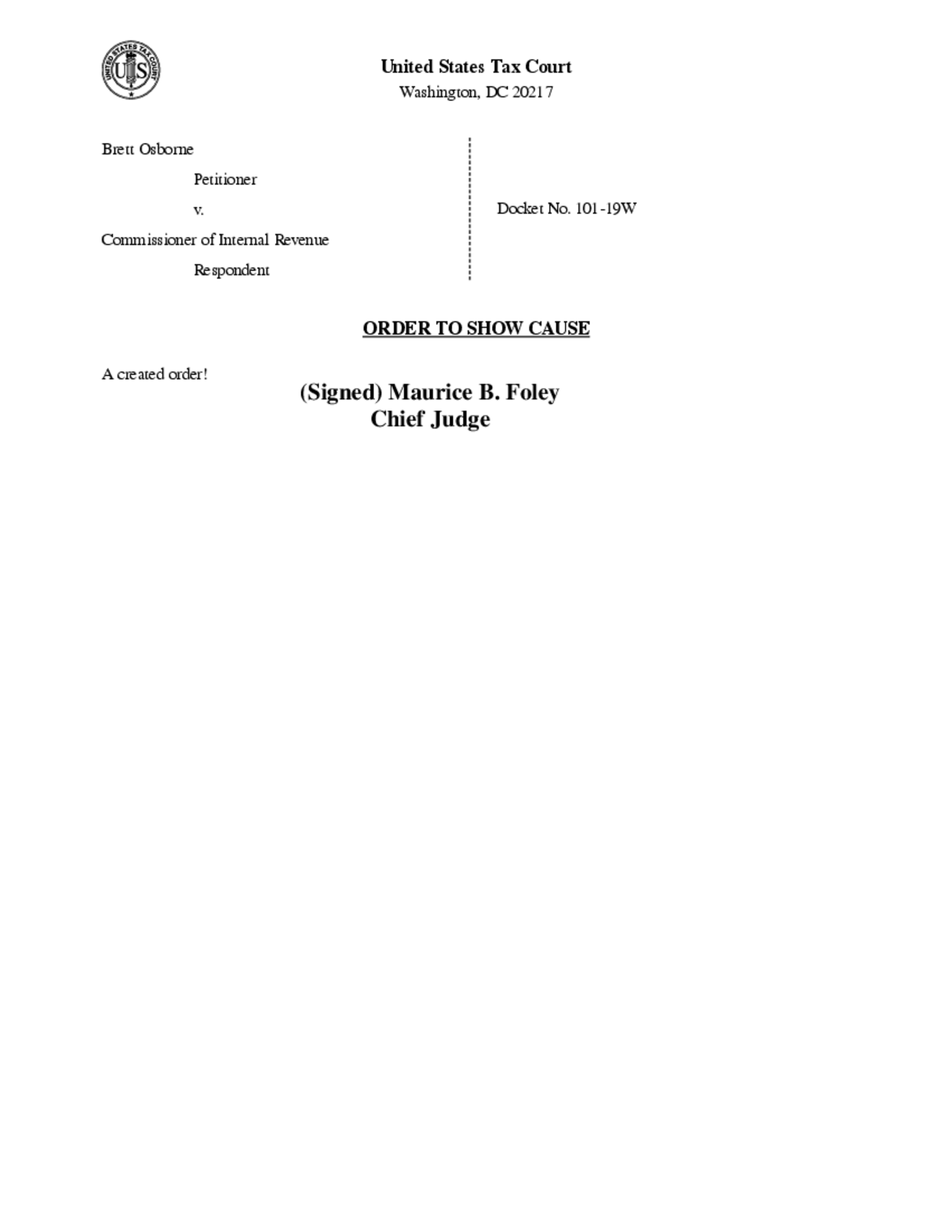signature: (300, 382, 560, 432)
